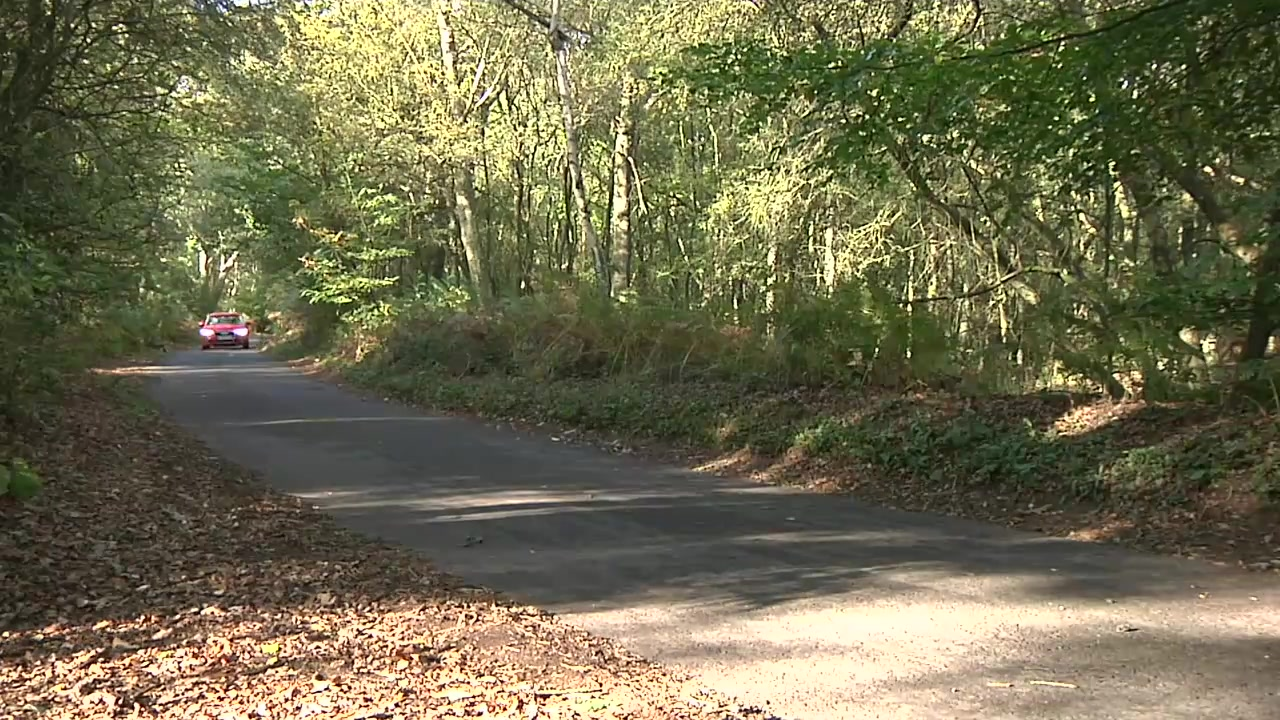car: (198, 311, 255, 352)
